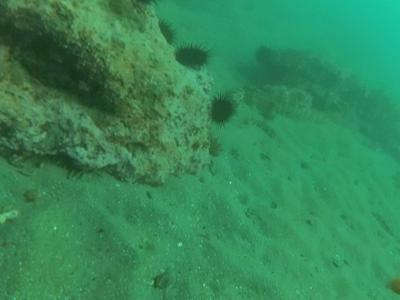urchin: (176, 42, 214, 73), (209, 93, 233, 130), (156, 22, 176, 44)
